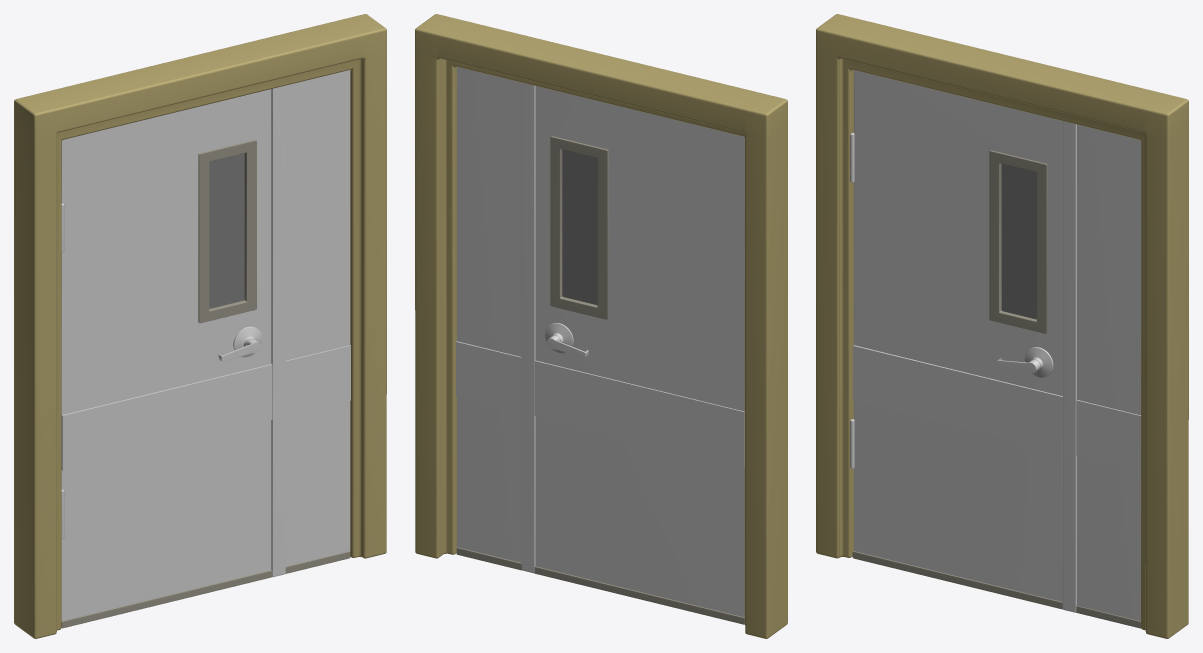
Rendered from MS Segmented Door.fbx.
3 renders of one model, left to right at view 1: azimuth 30°, elevation 25°; view 2: azimuth 150°, elevation 25°; view 3: azimuth 330°, elevation 25°, orthographic.
Parts seen in each view (by area): view 1: Door, Door Frame, Wall, Door Panel Door Close Side, Window, Door Divider, Door Panel Wall Close, Wall Divider, Door Seal, Wall Seal; view 2: Door, Door Frame, Wall, Door Panel Door Open Side, Window, Door Divider, Door Panel Wall Open, Wall Divider, Door Seal, Wall Seal; view 3: Door, Door Frame, Wall, Door Panel Door Close Side, Window, Wall Divider, Door Panel Wall Close, Door Divider, Door Seal, Handle Base.
Boxes of the visible parts, x1,y1,x2,y2 form: Door: [61, 89, 271, 620]; Door Frame: [14, 14, 386, 638]; Wall: [285, 70, 350, 566]; Door Panel Door Close Side: [61, 364, 272, 470]; Window: [198, 140, 256, 323]; Door Divider: [271, 87, 279, 576]; Door Panel Wall Close: [285, 345, 350, 416]; Wall Divider: [279, 85, 285, 575]; Door Seal: [61, 570, 272, 628]; Wall Seal: [285, 551, 350, 573]; Door: [535, 86, 744, 617]; Door Frame: [415, 14, 787, 638]; Wall: [457, 67, 521, 562]; Door Panel Door Open Side: [534, 360, 744, 466]; Window: [550, 136, 608, 319]; Door Divider: [528, 84, 535, 573]; Door Panel Wall Open: [456, 341, 521, 412]; Wall Divider: [521, 82, 527, 571]; Door Seal: [534, 566, 744, 624]; Wall Seal: [456, 547, 521, 570]; Door: [854, 70, 1062, 601]; Door Frame: [816, 14, 1188, 638]; Wall: [1077, 124, 1141, 621]; Door Panel Door Close Side: [853, 345, 1062, 451]; Window: [989, 150, 1047, 333]; Wall Divider: [1069, 122, 1076, 612]; Door Panel Wall Close: [1076, 400, 1140, 470]; Door Divider: [1062, 121, 1069, 610]; Door Seal: [852, 551, 1062, 609]; Handle Base: [1024, 347, 1053, 377].
Bounding box in the file's own units: 63.98 × 91 × 7.5.
